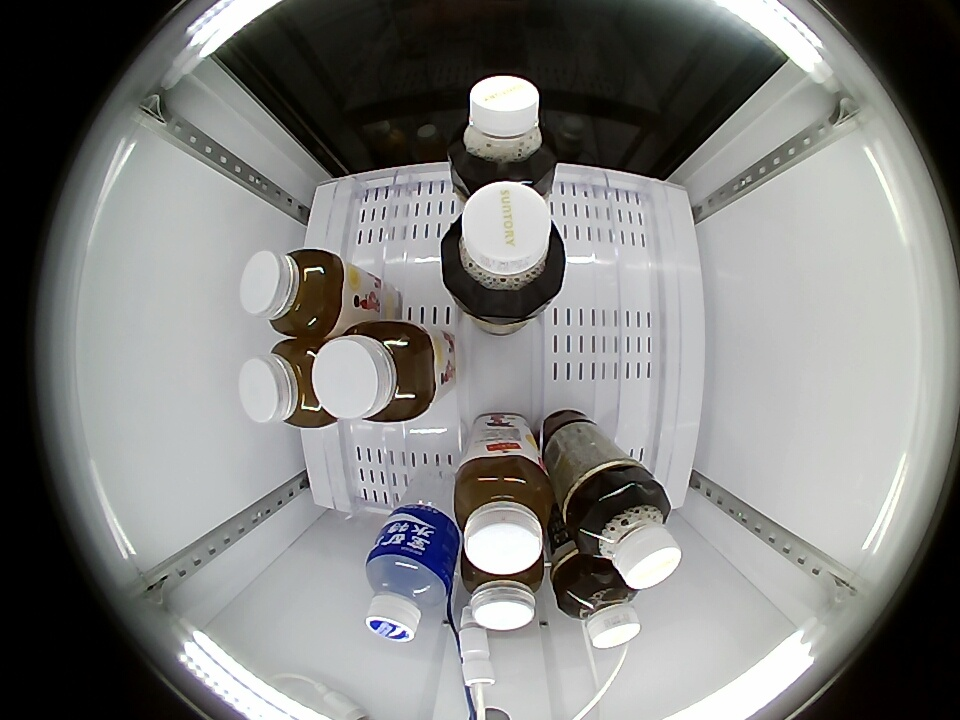baokuangli: (365, 539, 453, 643)
chapai: (313, 322, 436, 424), (454, 454, 555, 575), (241, 248, 345, 338), (239, 339, 342, 429), (462, 551, 545, 631)
wulongcha: (439, 180, 568, 318), (574, 479, 681, 590), (448, 74, 555, 184), (558, 569, 641, 649)
